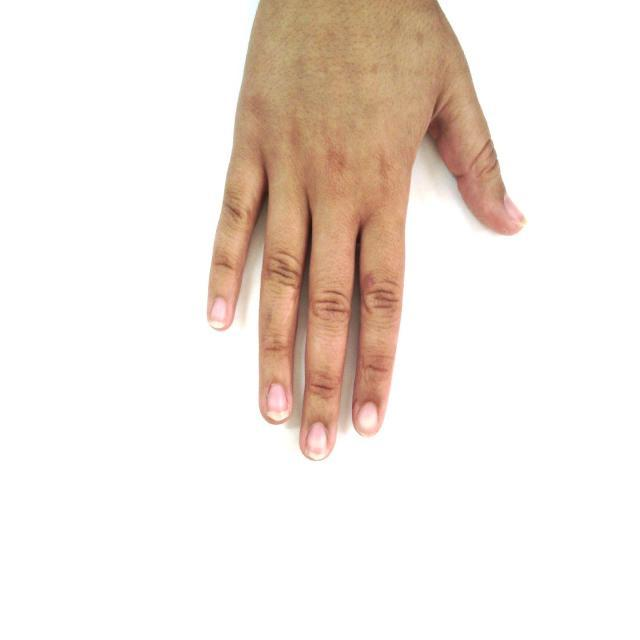Fingernail: (267, 383, 289, 420), (306, 423, 328, 459), (357, 402, 379, 437), (505, 197, 525, 223), (210, 298, 226, 329)
